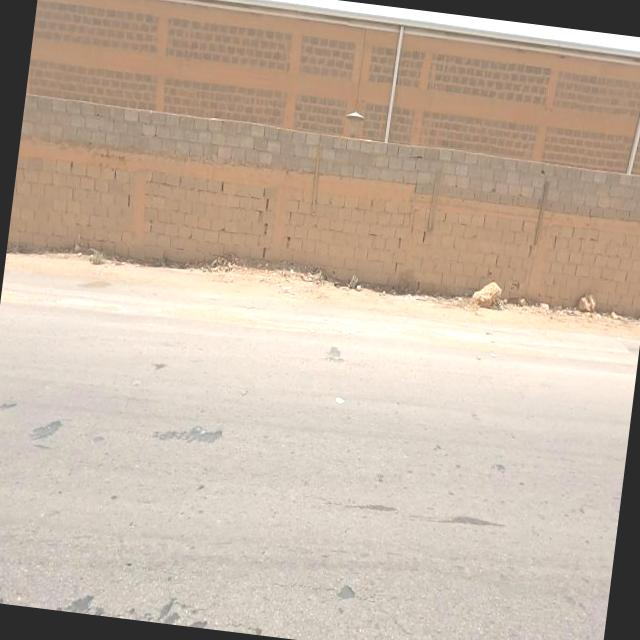debris: (305, 238, 387, 324), (248, 230, 320, 322)
